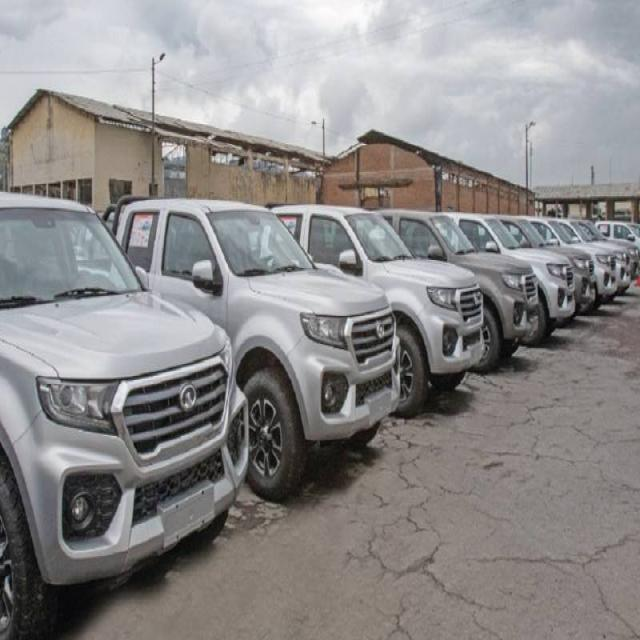CMT: (4, 196, 251, 622), (109, 200, 402, 454), (264, 207, 487, 402)
